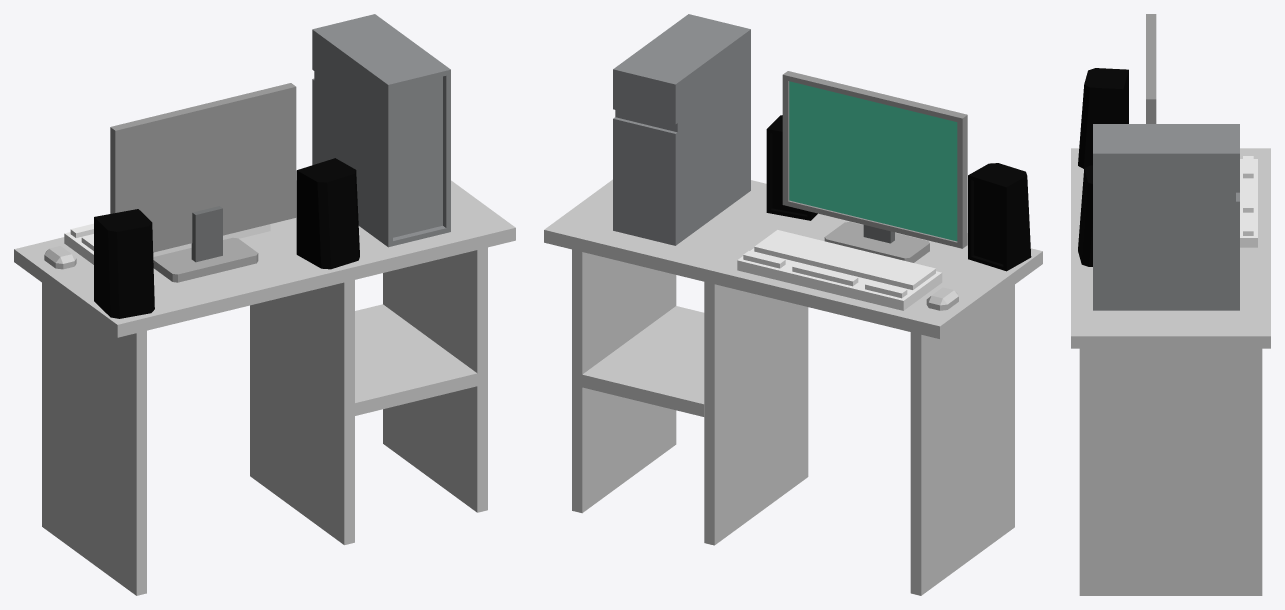
Rendered from desk.glb.
3 views of the same model, side by side, from view 1: azimuth 30°, elevation 25°; view 2: azimuth 150°, elevation 25°; view 3: azimuth 270°, elevation 25° (orthographic). The views are drawn at different scales.
Parts seen in each view (by area): view 1: 55, 61, 56, 59, 58, 57, 60; view 2: 55, 61, 63, 60, 59, 56, 58; view 3: 55, 61, 59, 60, 56.
Part boxes in pixels (x1=…): 55: x1=14, y1=180, x2=515, y2=595; 61: x1=312, y1=14, x2=450, y2=247; 56: x1=110, y1=83, x2=296, y2=252; 59: x1=94, y1=158, x2=359, y2=318; 58: x1=153, y1=237, x2=258, y2=282; 57: x1=191, y1=206, x2=222, y2=262; 60: x1=64, y1=223, x2=270, y2=264; 55: x1=544, y1=179, x2=1042, y2=595; 61: x1=613, y1=14, x2=750, y2=245; 63: x1=789, y1=81, x2=957, y2=241; 60: x1=737, y1=230, x2=942, y2=310; 59: x1=766, y1=115, x2=1031, y2=271; 56: x1=782, y1=71, x2=967, y2=248; 58: x1=824, y1=222, x2=929, y2=262; 55: x1=1071, y1=148, x2=1270, y2=595; 61: x1=1093, y1=124, x2=1239, y2=310; 59: x1=1078, y1=68, x2=1128, y2=266; 60: x1=1240, y1=156, x2=1257, y2=247; 56: x1=1146, y1=14, x2=1156, y2=123.
Size of the model in its own units: 3.93 by 4.18 by 1.77.
